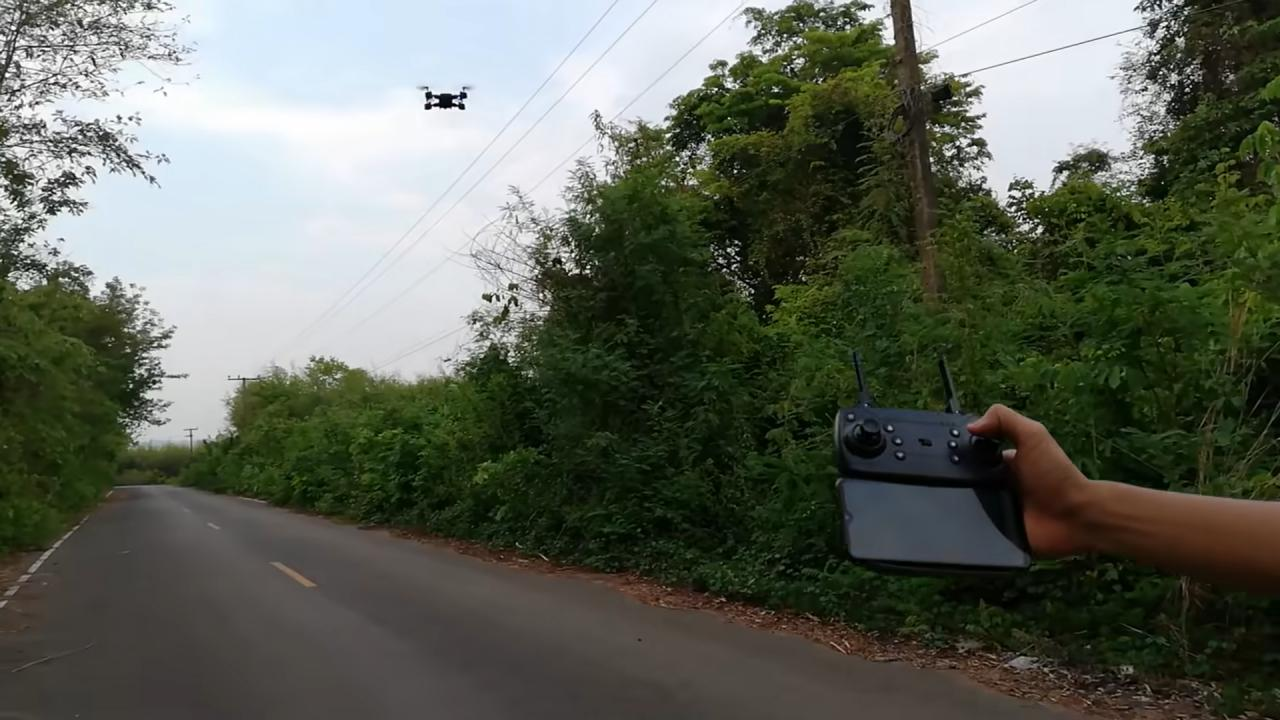Drone: (404, 77, 483, 116)
